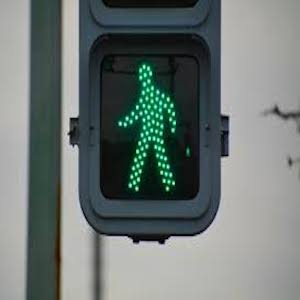green: (109, 55, 190, 184)
